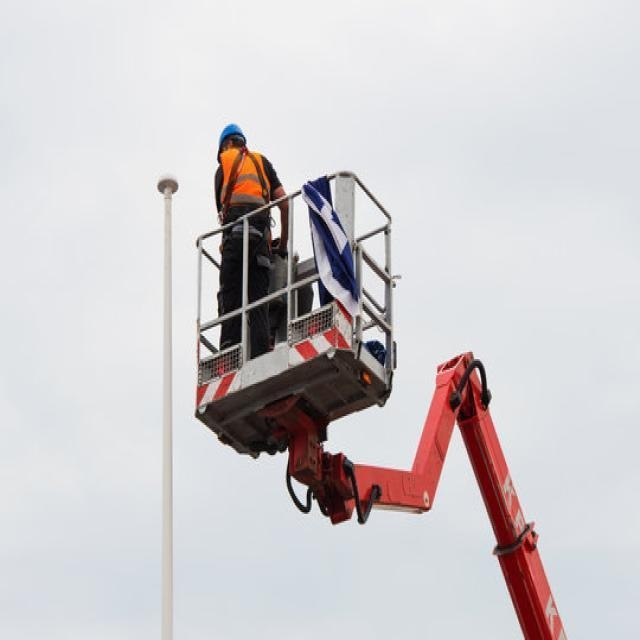Arnes_seguridad: (217, 144, 273, 257)
